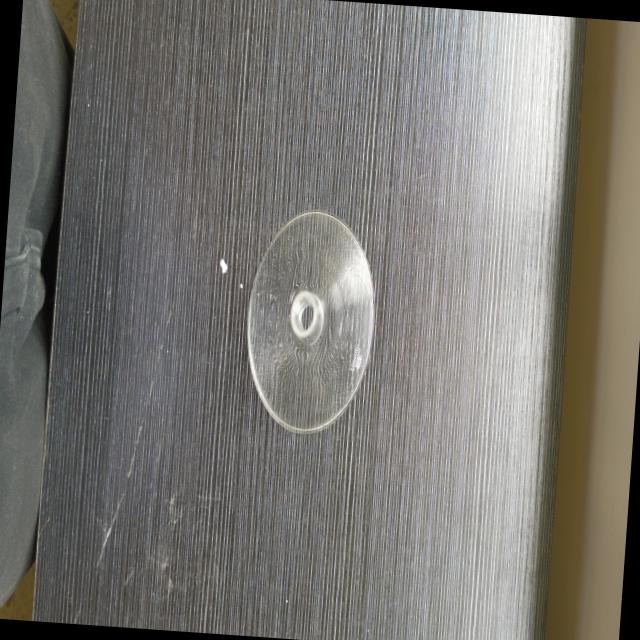funnel: (232, 199, 388, 445)
